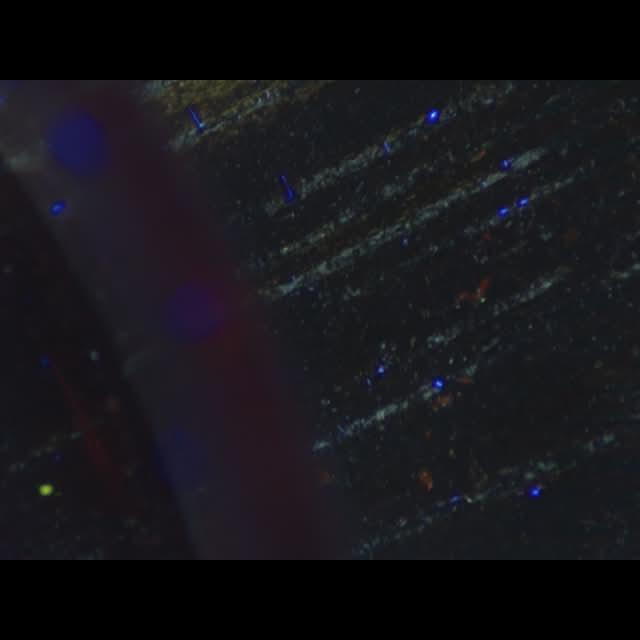microbeads: (38, 482, 54, 496)
